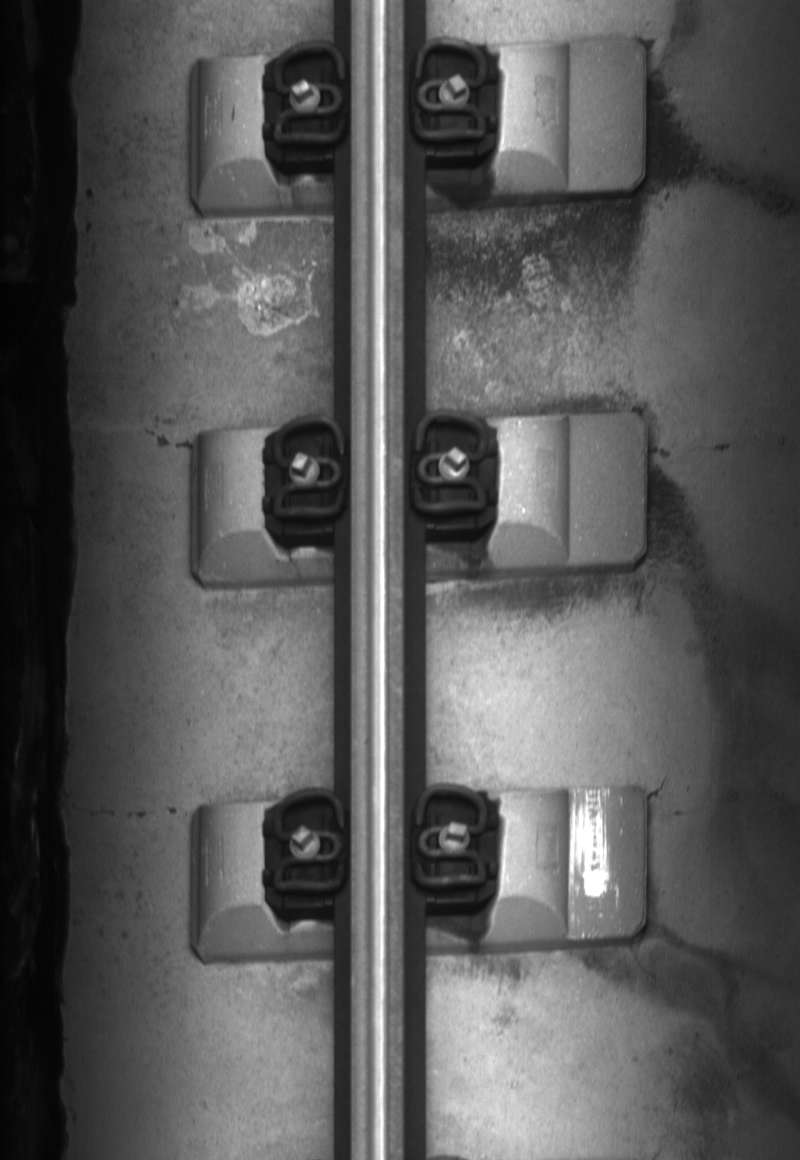l_faster: (262, 411, 351, 523), (267, 784, 350, 899), (267, 38, 351, 149)
r_faster: (408, 404, 493, 520), (411, 781, 491, 892), (411, 35, 489, 146)
